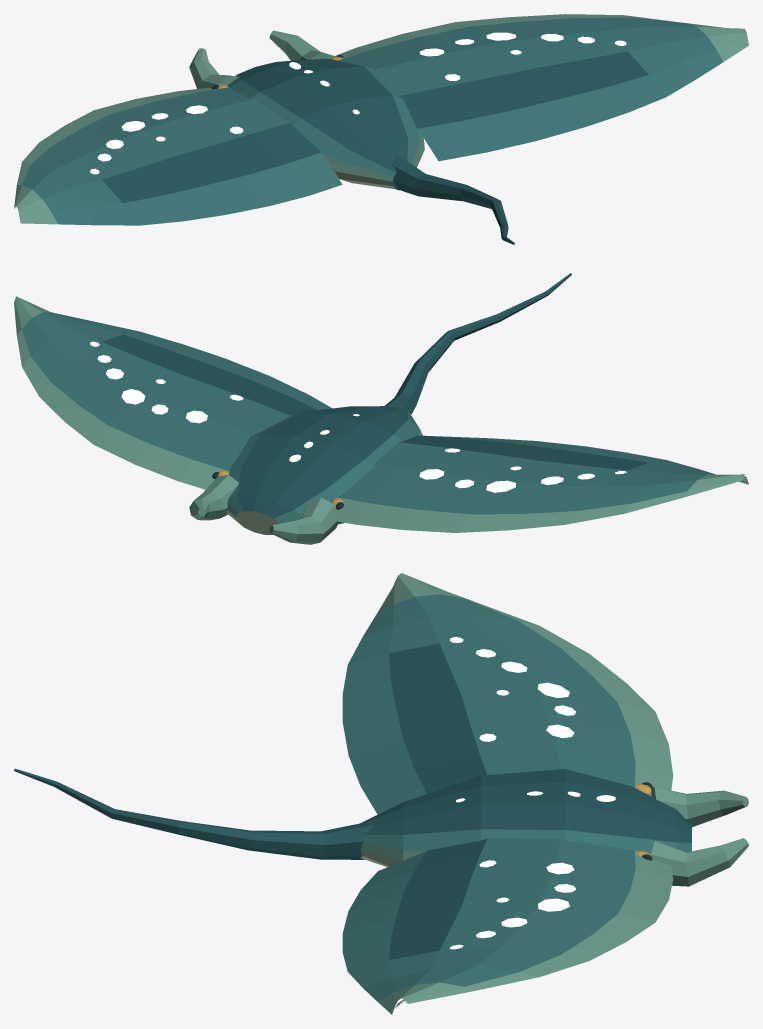
The model's file is manta.glb.
3 views of the same model, one above another, from view 1: azimuth 30°, elevation 25°; view 2: azimuth 150°, elevation 25°; view 3: azimuth 270°, elevation 25° (orthographic). The views are drawn at different scales.
Parts seen in each view (by area): view 1: FinR, FinL, RayBody; view 2: FinR, FinL, RayBody; view 3: FinL, FinR, RayBody.
Boxes of the visible parts, bbox=[...] form: FinR: bbox=[335, 14, 748, 161]; FinL: bbox=[14, 87, 342, 225]; RayBody: bbox=[189, 30, 514, 244]; FinR: bbox=[14, 296, 332, 489]; FinL: bbox=[329, 435, 748, 532]; RayBody: bbox=[189, 273, 571, 544]; FinL: bbox=[342, 573, 673, 814]; FinR: bbox=[342, 838, 673, 1014]; RayBody: bbox=[14, 768, 748, 886].
Bounding box in the file's own units: 7.14 × 0.6275 × 5.22.
